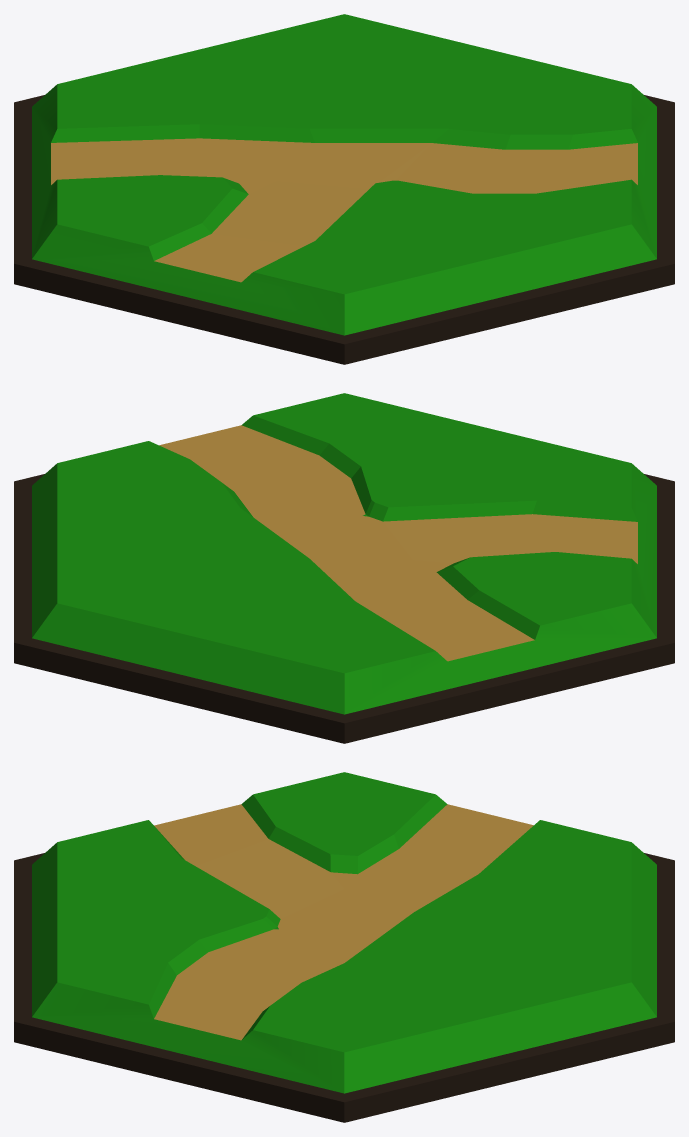
File: roadForkTile.fbx
3 renders of one model, top to bottom at view 1: azimuth 30°, elevation 25°; view 2: azimuth 150°, elevation 25°; view 3: azimuth 270°, elevation 25°, orthographic.
Parts seen in each view (by area): view 1: tail030; view 2: tail030; view 3: tail030.
Boxes of the visible parts, x1=… form: tail030: x1=14, y1=14, x2=674, y2=364; tail030: x1=14, y1=393, x2=674, y2=743; tail030: x1=14, y1=772, x2=674, y2=1122.
Bounding box in the file's own units: 47.1 × 3.36 × 40.79.
